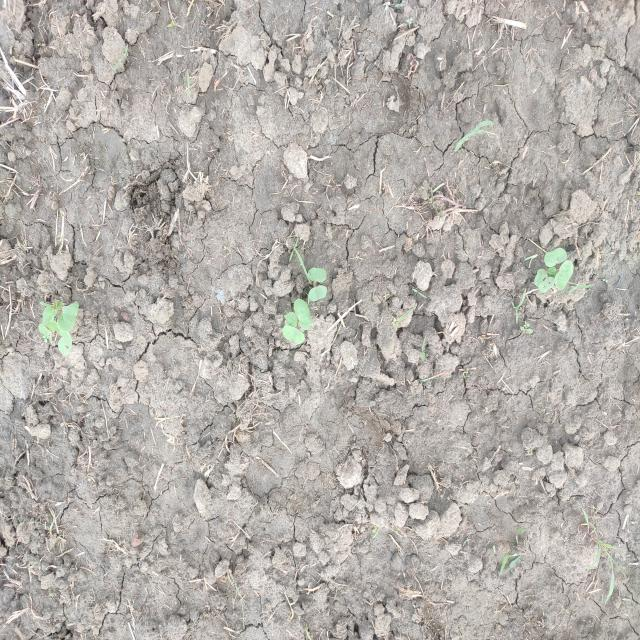seedling_s4: (57, 302, 79, 332), (554, 260, 574, 290), (293, 299, 312, 330), (544, 248, 567, 267), (282, 325, 304, 344), (58, 331, 72, 355), (38, 324, 53, 346), (308, 285, 327, 302), (43, 307, 57, 327), (308, 267, 326, 282), (538, 277, 554, 293), (45, 316, 59, 333), (534, 268, 546, 287), (284, 312, 297, 327), (547, 266, 557, 277)
